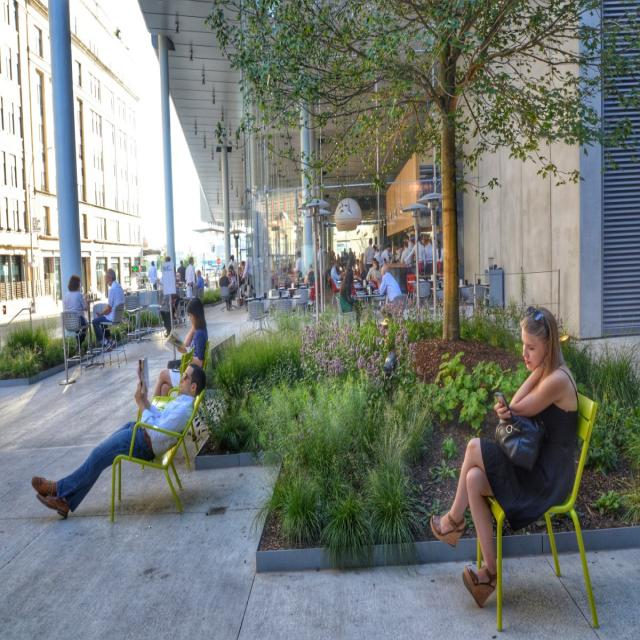body: (426, 301, 584, 614), (29, 354, 208, 521), (152, 296, 209, 400), (90, 268, 127, 354), (62, 273, 90, 354), (339, 268, 364, 334), (375, 263, 403, 319), (160, 265, 180, 339), (226, 252, 253, 305), (324, 241, 365, 273), (402, 234, 427, 276), (365, 242, 383, 287), (312, 238, 325, 296), (218, 268, 233, 311), (400, 240, 413, 287), (184, 255, 196, 299), (330, 258, 346, 290), (402, 234, 418, 266), (188, 269, 205, 299), (226, 269, 238, 309), (363, 238, 376, 274), (435, 239, 444, 291), (324, 246, 334, 290), (378, 242, 393, 270), (424, 238, 433, 276), (303, 263, 315, 291), (293, 250, 304, 280), (148, 260, 157, 290), (392, 243, 402, 263), (177, 260, 186, 282), (348, 247, 354, 271), (204, 272, 210, 289), (174, 270, 182, 282), (162, 256, 172, 263), (421, 238, 426, 247)
